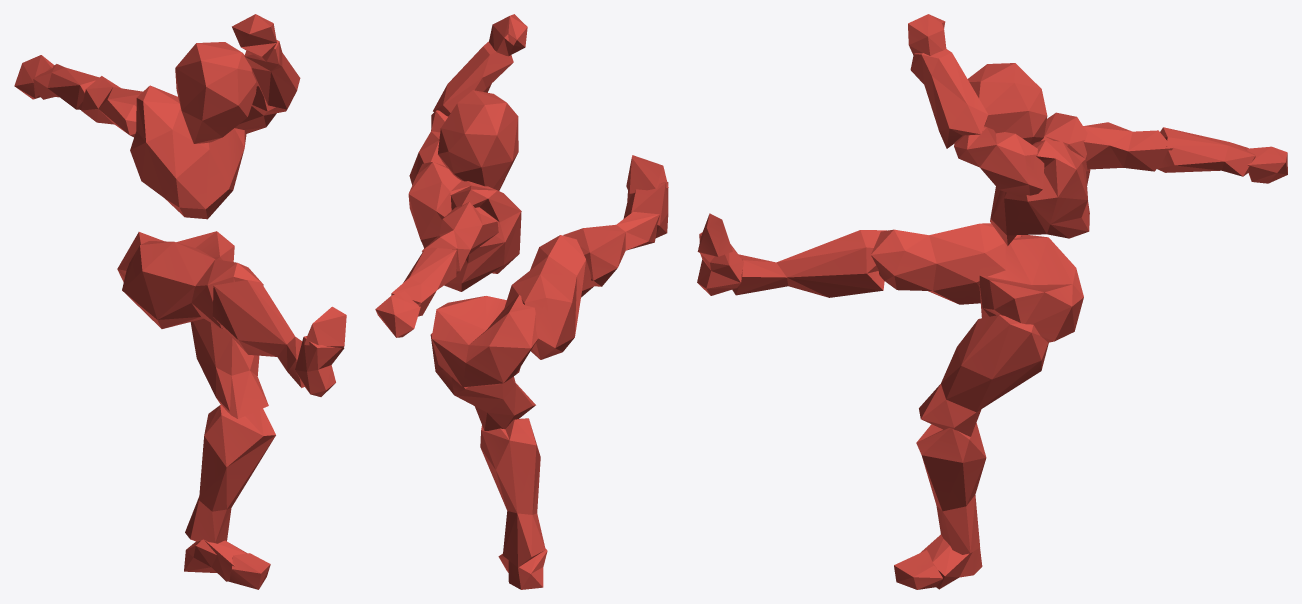
The model's file is 2dancer0157.obj.
The picture shows the model from 3 angles, left to right: view 1: azimuth 30°, elevation 25°; view 2: azimuth 150°, elevation 25°; view 3: azimuth 270°, elevation 25°; orthographic projection. The views are drawn at different scales.
Parts seen in each view (by area): view 1: Beta_Surface; view 2: Beta_Surface; view 3: Beta_Surface.
Part boxes in pixels (bbox=[...]): Beta_Surface: bbox=[14, 14, 346, 589]; Beta_Surface: bbox=[375, 14, 668, 589]; Beta_Surface: bbox=[697, 14, 1287, 589].
Bounding box in the file's own units: 0.5415 × 1.93 × 1.79.
